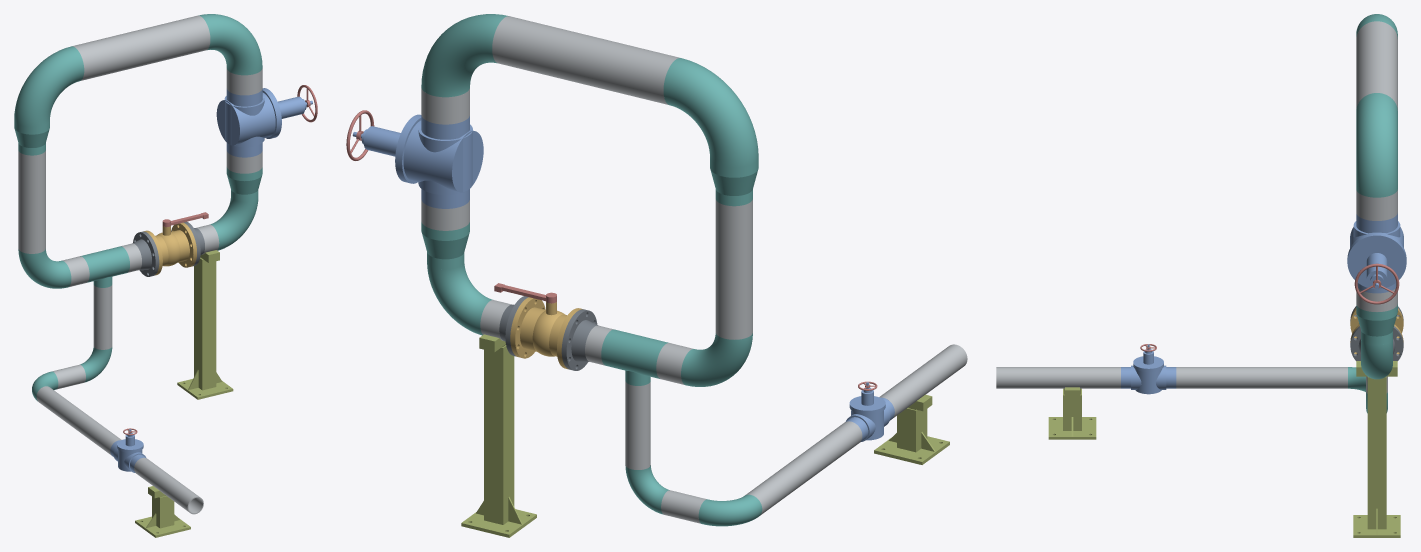
File: step_31.glb
3 views of the same model, side by side, from view 1: azimuth 30°, elevation 25°; view 2: azimuth 150°, elevation 25°; view 3: azimuth 270°, elevation 25° (orthographic). The views are drawn at different scales.
Parts seen in each view (by area): view 1: part__8" pipe, top run, 890 long, part__pipe support SP-101, tall, part__8" gate valve body GV-101, part__8" elbow top left, part__6" pipe, left riser, 664 long, part__8" elbow top right, part__4" pipe, inlet to the needle valve, 902 long, part__6" ball valve body BV-101, part__4" pipe, inlet end, 654 long, part__6" elbow bottom left, part__pipe support SP-101, short, part__6" x 4" reducing tee (+14 smaller); view 2: part__8" pipe, top run, 890 long, part__pipe support SP-101, tall, part__8" gate valve body GV-101, part__8" elbow top left, part__6" pipe, left riser, 664 long, part__8" elbow top right, part__4" pipe, inlet to the needle valve, 902 long, part__6" ball valve body BV-101, part__pipe support SP-101, short, part__6" elbow bottom left, part__6" x 4" reducing tee, part__6" elbow bottom right (+14 smaller); view 3: part__8" elbow top right, part__pipe support SP-101, tall, part__4" pipe, inlet to the needle valve, 902 long, part__8" pipe, top run, 890 long, part__4" pipe, inlet end, 654 long, part__8" gate valve bonnet and stem, part__pipe support SP-101, short, part__4" needle valve body NV-101, part__reducer right leg, part__8" gate valve body GV-101, part__6" elbow bottom right, part__8" pipe, right leg above the gate valve, 136 long (+3 smaller).
Boxes of the visible parts, bbox=[...] form: part__8" pipe, top run, 890 long: bbox=[72, 15, 210, 80]; part__pipe support SP-101, tall: bbox=[177, 250, 233, 399]; part__8" gate valve body GV-101: bbox=[216, 88, 279, 157]; part__8" elbow top left: bbox=[14, 46, 84, 127]; part__6" pipe, left riser, 664 long: bbox=[18, 150, 45, 253]; part__8" elbow top right: bbox=[198, 14, 262, 75]; part__4" pipe, inlet to the needle valve, 902 long: bbox=[36, 386, 121, 455]; part__6" ball valve body BV-101: bbox=[143, 222, 196, 275]; part__4" pipe, inlet end, 654 long: bbox=[134, 457, 203, 514]; part__6" elbow bottom left: bbox=[18, 249, 71, 288]; part__pipe support SP-101, short: bbox=[135, 486, 190, 537]; part__6" x 4" reducing tee: bbox=[80, 246, 129, 287]; part__8" pipe, top run, 890 long: bbox=[492, 16, 679, 104]; part__pipe support SP-101, tall: bbox=[461, 334, 536, 537]; part__8" gate valve body GV-101: bbox=[398, 115, 483, 208]; part__8" elbow top left: bbox=[663, 58, 758, 167]; part__6" pipe, left riser, 664 long: bbox=[715, 199, 752, 339]; part__8" elbow top right: bbox=[421, 14, 508, 97]; part__4" pipe, inlet to the needle valve, 902 long: bbox=[745, 421, 862, 515]; part__6" ball valve body BV-101: bbox=[510, 297, 582, 369]; part__pipe support SP-101, short: bbox=[874, 394, 949, 464]; part__6" elbow bottom left: bbox=[681, 333, 752, 386]; part__6" x 4" reducing tee: bbox=[601, 329, 668, 385]; part__6" elbow bottom right: bbox=[427, 262, 492, 335]; part__8" elbow top right: bbox=[1356, 93, 1397, 197]; part__pipe support SP-101, tall: bbox=[1353, 361, 1400, 537]; part__4" pipe, inlet to the needle valve, 902 long: bbox=[1176, 367, 1347, 388]; part__8" pipe, top run, 890 long: bbox=[1356, 21, 1397, 110]; part__4" pipe, inlet end, 654 long: bbox=[996, 367, 1120, 388]; part__8" gate valve bonnet and stem: bbox=[1347, 234, 1406, 289]; part__pipe support SP-101, short: bbox=[1048, 387, 1096, 439]; part__4" needle valve body NV-101: bbox=[1121, 365, 1176, 394]; part__reducer right leg: bbox=[1356, 304, 1397, 344]; part__8" gate valve body GV-101: bbox=[1347, 213, 1406, 293]; part__6" elbow bottom right: bbox=[1361, 339, 1392, 379]; part__8" pipe, right leg above the gate valve, 136 long: bbox=[1356, 189, 1397, 220].
Bounding box in the file's own units: 2102 × 2510 × 2156.
